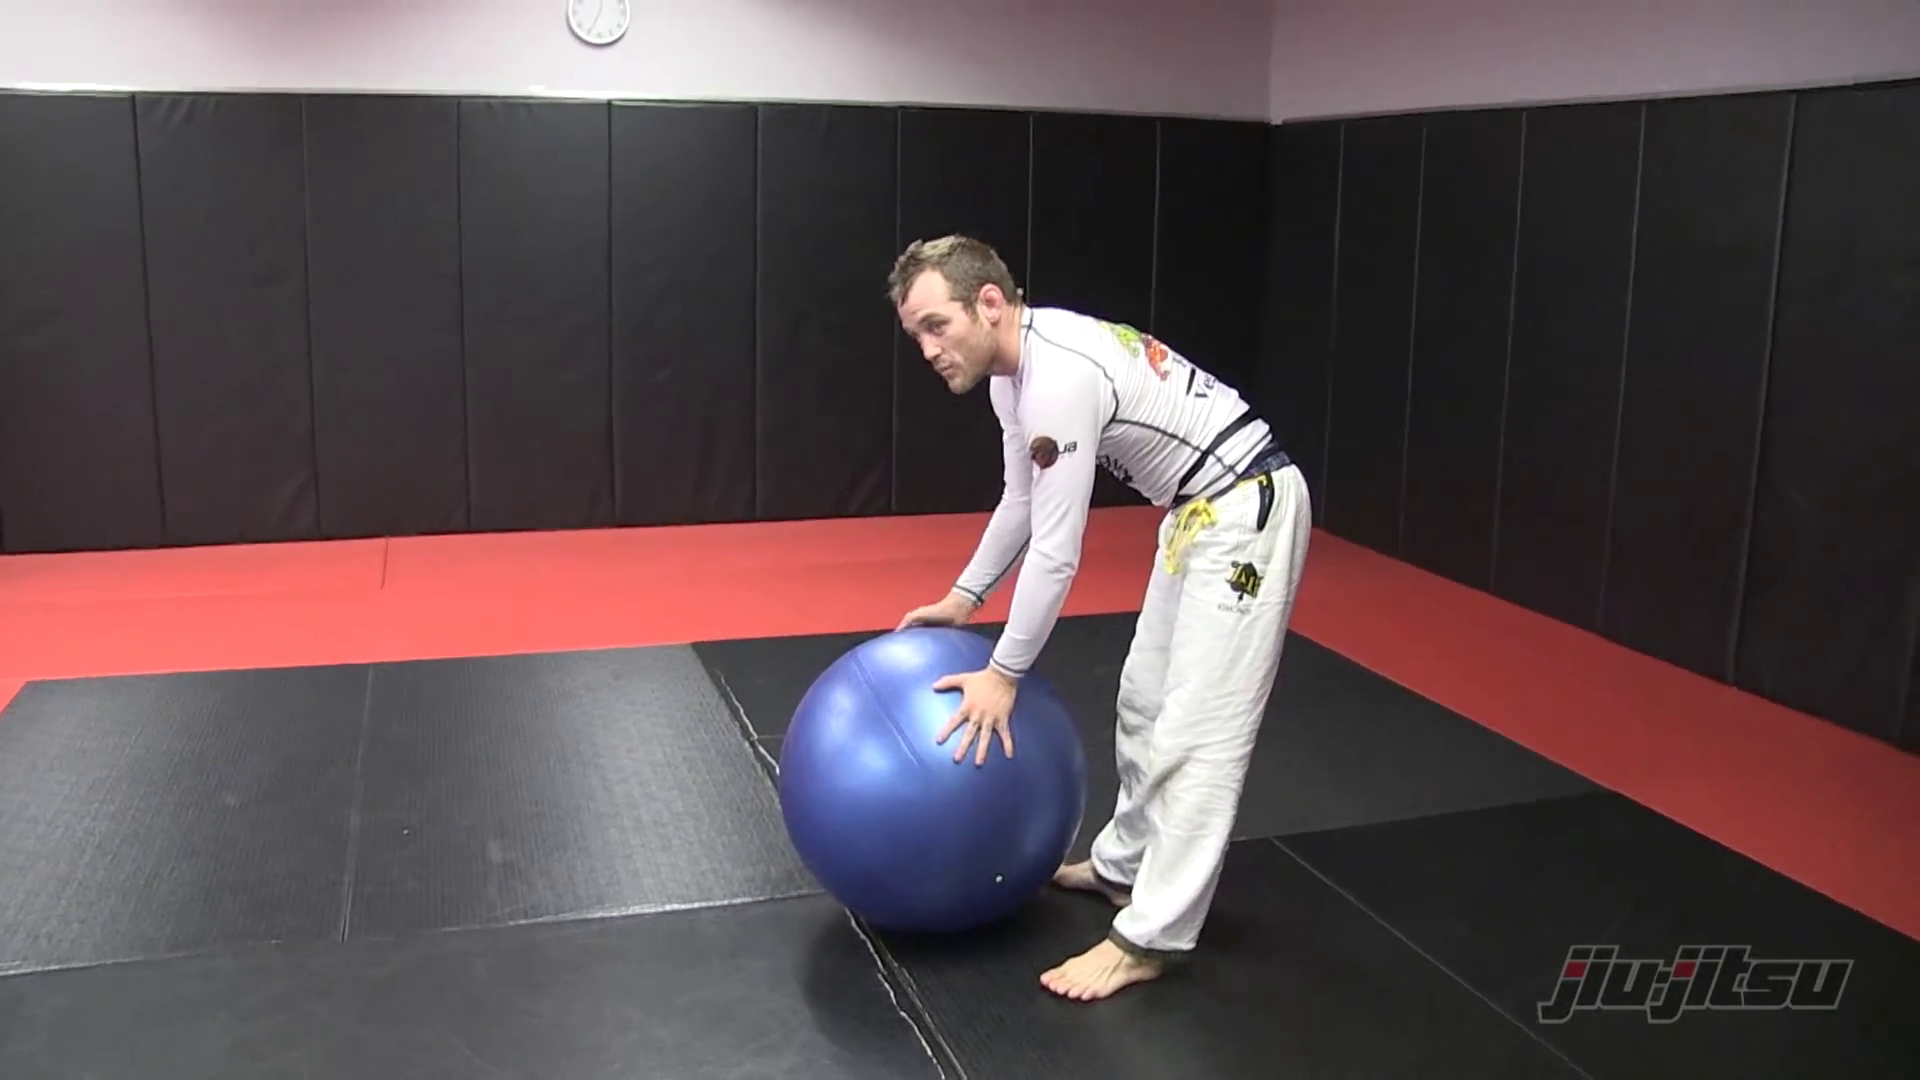yogaball: (742, 618, 1112, 973)
